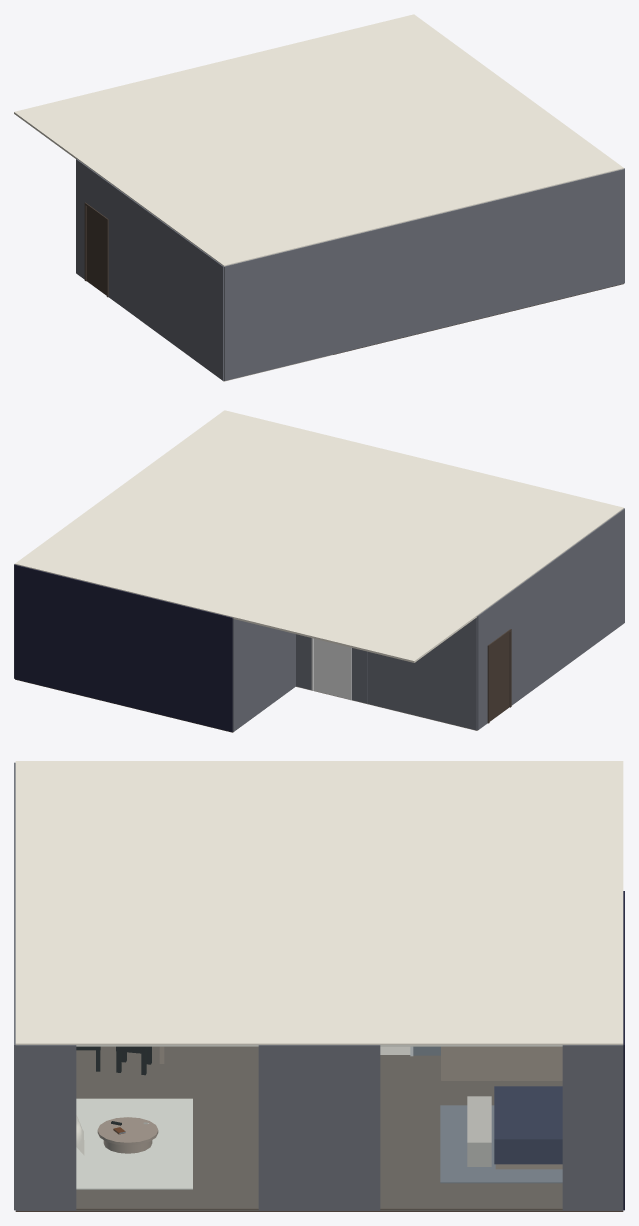
The model's file is apartment.dae.
The picture shows the model from 3 angles, top to bottom: view 1: azimuth 30°, elevation 25°; view 2: azimuth 150°, elevation 25°; view 3: azimuth 270°, elevation 25°; orthographic projection. The views are drawn at different scales.
Parts seen in each view (by area): view 1: Ceiling, Wall5, Wall4, FrontDoorMain, Wall3, Wall1, Wall2; view 2: Ceiling, BRAccentWall, Wall4, Wall16, Wall9, WRDoorMain, FrontDoorMain, Wall1, Wall3, Wall15, Wall13, Wall2; view 3: Ceiling, Window2, Window1, LRFloor, BRFloor, Wall8, Wall7.1, Wall7.2, Wall6, Rug, Blanket, BRRug (+6 smaller).
Part boxes in pixels (x1,y1,x2,y2): Ceiling: (14,14,623,266); Wall5: (224,169,624,380); Wall4: (118,190,223,380); FrontDoorMain: (86,206,106,295); Wall3: (107,182,118,303); Wall1: (76,159,86,279); Wall2: (86,166,107,218); Ceiling: (15,410,623,662); BRAccentWall: (14,564,232,731); Wall4: (519,508,624,699); Wall16: (368,616,477,730); Wall9: (232,618,295,731); WRDoorMain: (314,638,349,699); FrontDoorMain: (489,632,509,721); Wall1: (477,608,488,729); Wall3: (509,585,519,705); Wall15: (351,648,367,703); Wall13: (296,634,311,689); Wall2: (488,593,509,644); Ceiling: (15,761,623,1046); Window2: (380,1045,562,1210); Window1: (76,1045,258,1210); LRFloor: (15,1046,319,1211); BRFloor: (319,1055,623,1211); Wall8: (562,1045,623,1210); Wall7.1: (258,1045,319,1210); Wall7.2: (319,1045,380,1210); Wall6: (15,1045,76,1210); Rug: (76,1098,192,1189); Blanket: (494,1086,562,1164); BRRug: (440,1105,562,1183).
Bounding box in the file's own units: 1108 × 305 × 1005.
